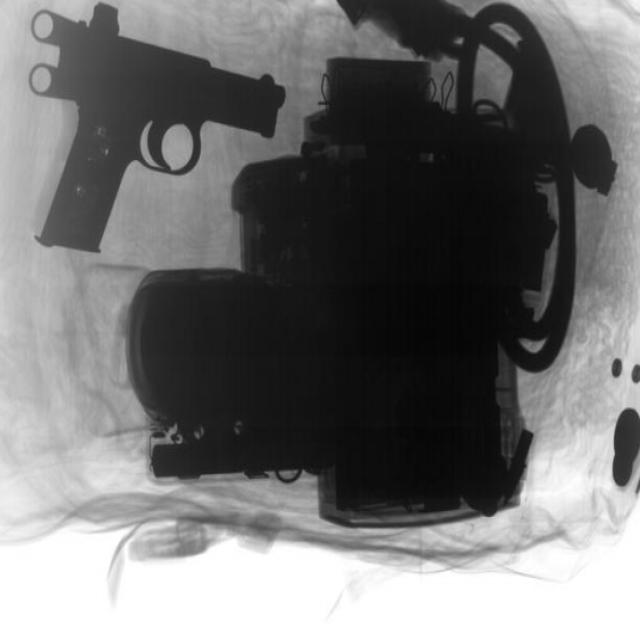GUN: (7, 42, 315, 243)
